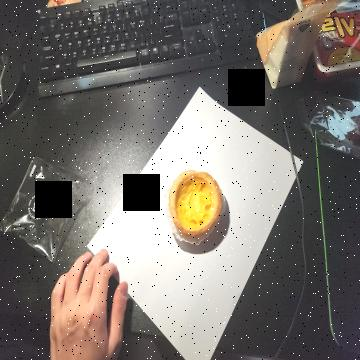EggTart: (168, 170, 224, 238)
